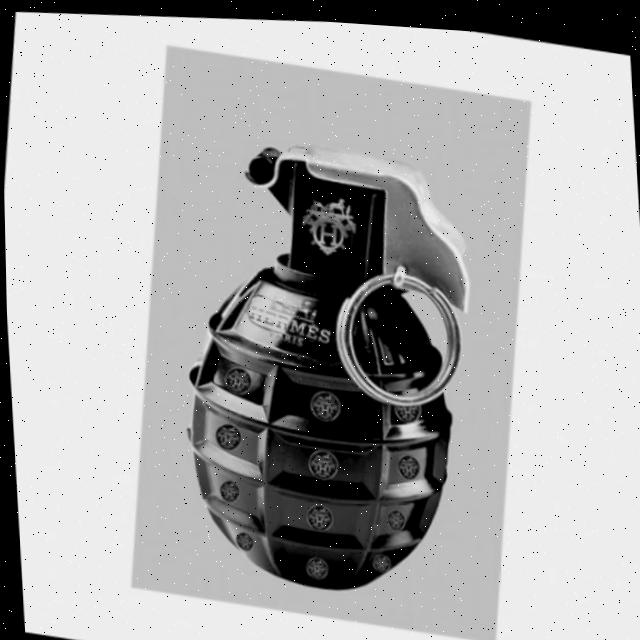grenade: (151, 124, 494, 620)
